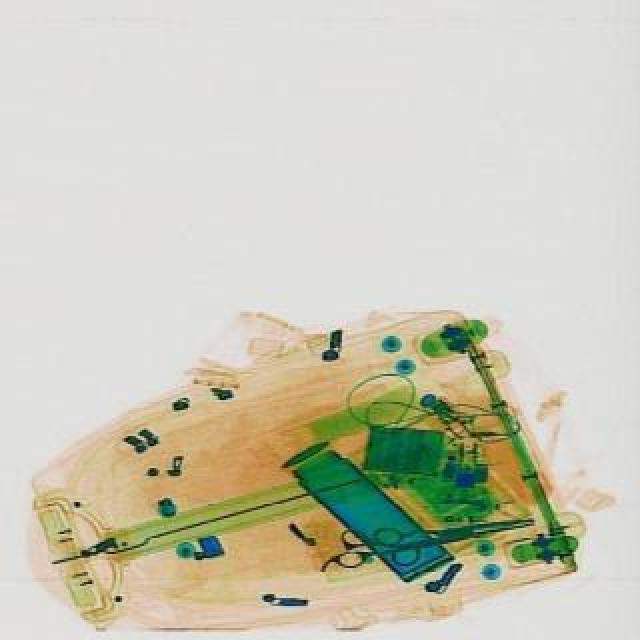pliers: (374, 498, 534, 570), (336, 516, 476, 568)
